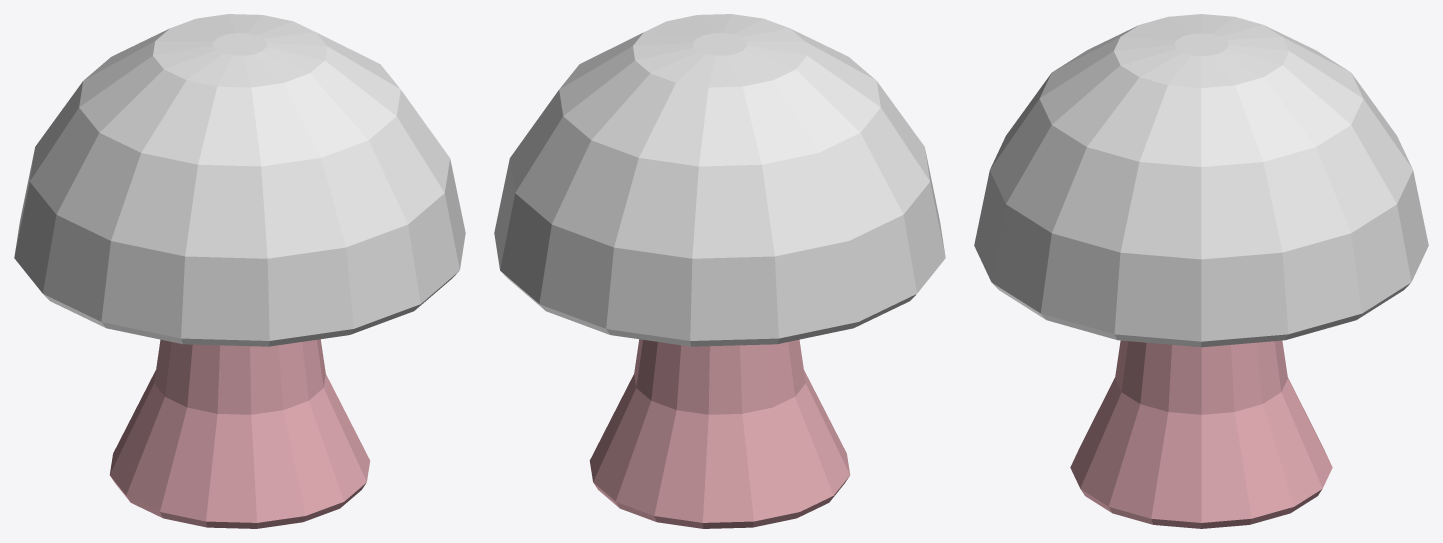
The model's file is komischer pilz.fbx.
3 views of the same model, side by side, from view 1: azimuth 30°, elevation 25°; view 2: azimuth 150°, elevation 25°; view 3: azimuth 270°, elevation 25° (orthographic).
Parts seen in each view (by area): view 1: Sphere; view 2: Sphere; view 3: Sphere.
Boxes of the visible parts, <box> form: Sphere: <box>14,14,465,528</box>; Sphere: <box>494,14,945,528</box>; Sphere: <box>974,14,1428,528</box>.
Bounding box in the file's own units: 58.24 × 60.91 × 58.24.
